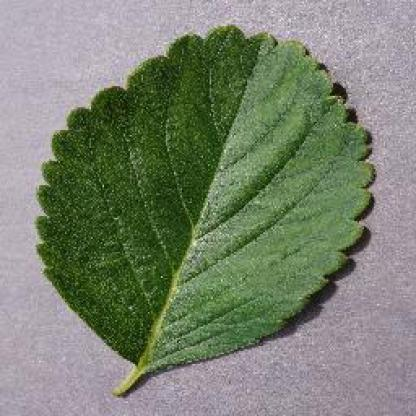healthy: (32, 20, 393, 402)
